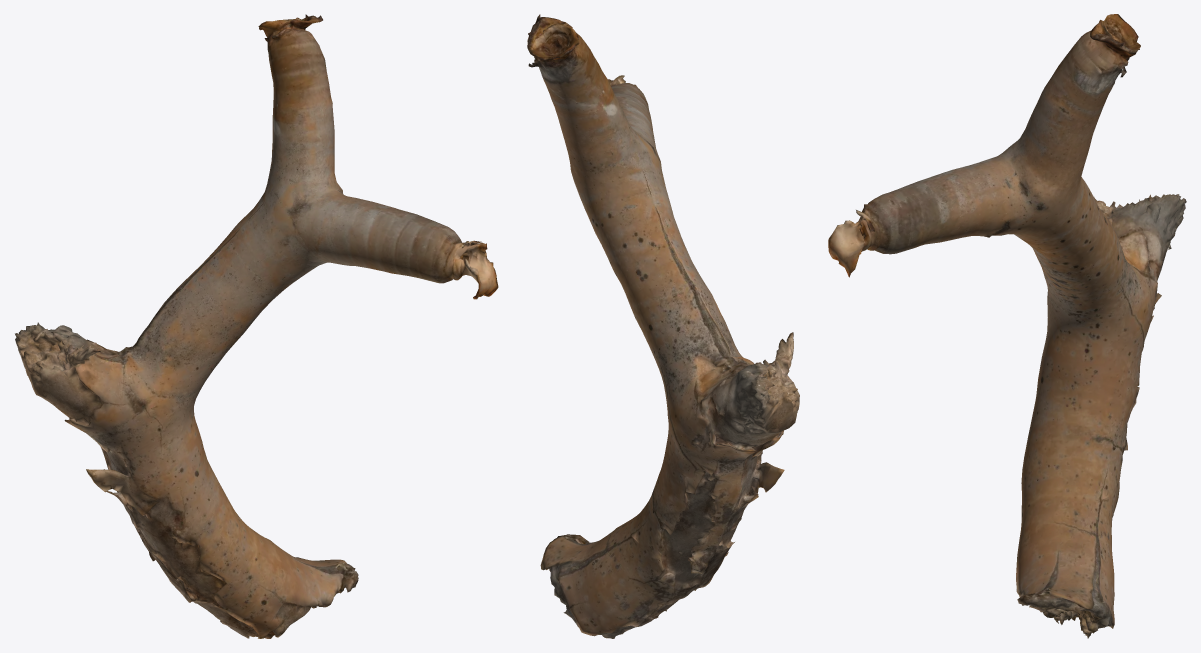
Rendered from dead_quiver_branch_01.glb.
3 renders of one model, left to right at view 1: azimuth 30°, elevation 25°; view 2: azimuth 150°, elevation 25°; view 3: azimuth 270°, elevation 25°, orthographic. The views are drawn at different scales.
Visible parts, largest first — view 1: dead_quiver_branch_01; view 2: dead_quiver_branch_01; view 3: dead_quiver_branch_01.
Part boxes in pixels (x1,y1,x2,y2): dead_quiver_branch_01: [15, 14, 498, 638]; dead_quiver_branch_01: [527, 14, 799, 638]; dead_quiver_branch_01: [828, 14, 1186, 638].
Size of the model in its own units: 0.2549 by 0.4387 by 0.227.
1 material, 1 textured.
